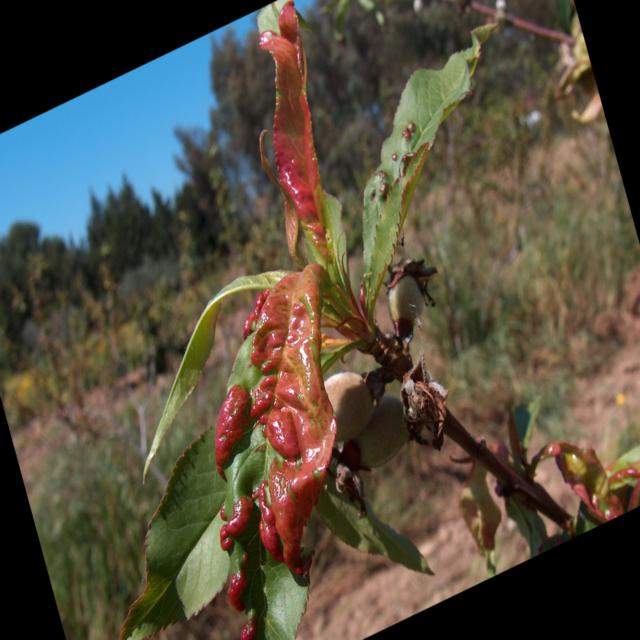peach_leaf_curl: (214, 262, 338, 632)
